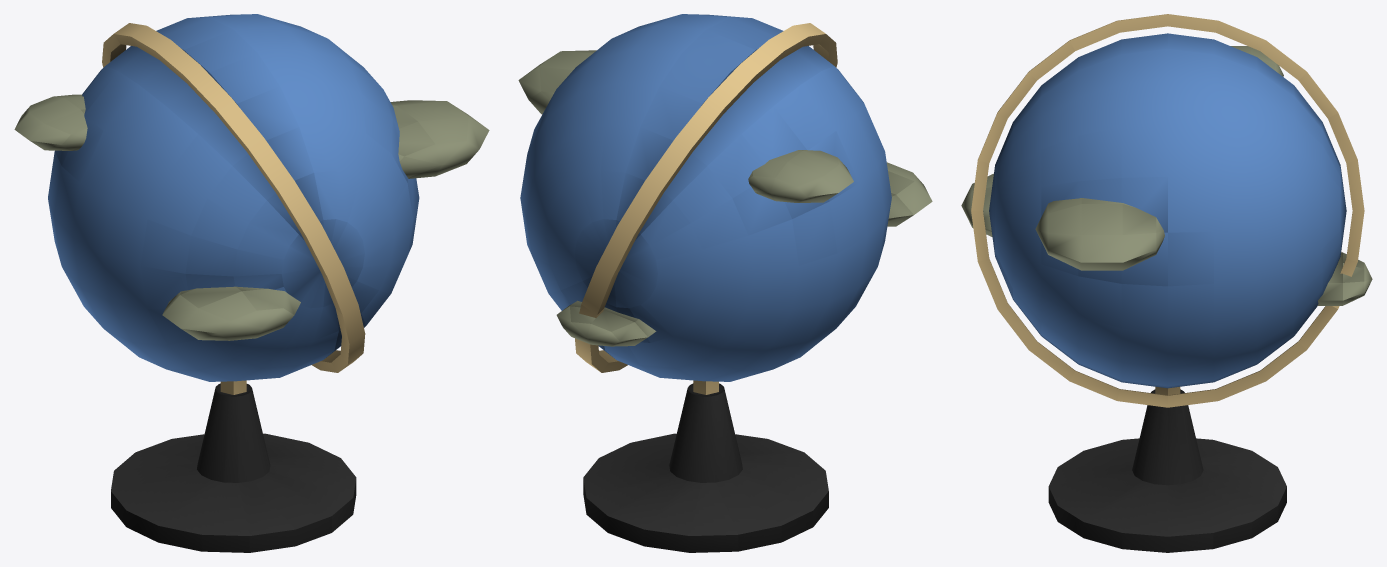
The model's file is globe.glb.
3 views of the same model, side by side, from view 1: azimuth 30°, elevation 25°; view 2: azimuth 150°, elevation 25°; view 3: azimuth 270°, elevation 25° (orthographic). The views are drawn at different scales.
Visible parts, largest first — view 1: static; view 2: static; view 3: static.
Part boxes in pixels (x1=…): static: x1=14, y1=14, x2=489, y2=552; static: x1=518, y1=14, x2=932, y2=552; static: x1=961, y1=14, x2=1372, y2=552.
Size of the model in its own units: 0.3608 by 0.4245 by 0.345.
